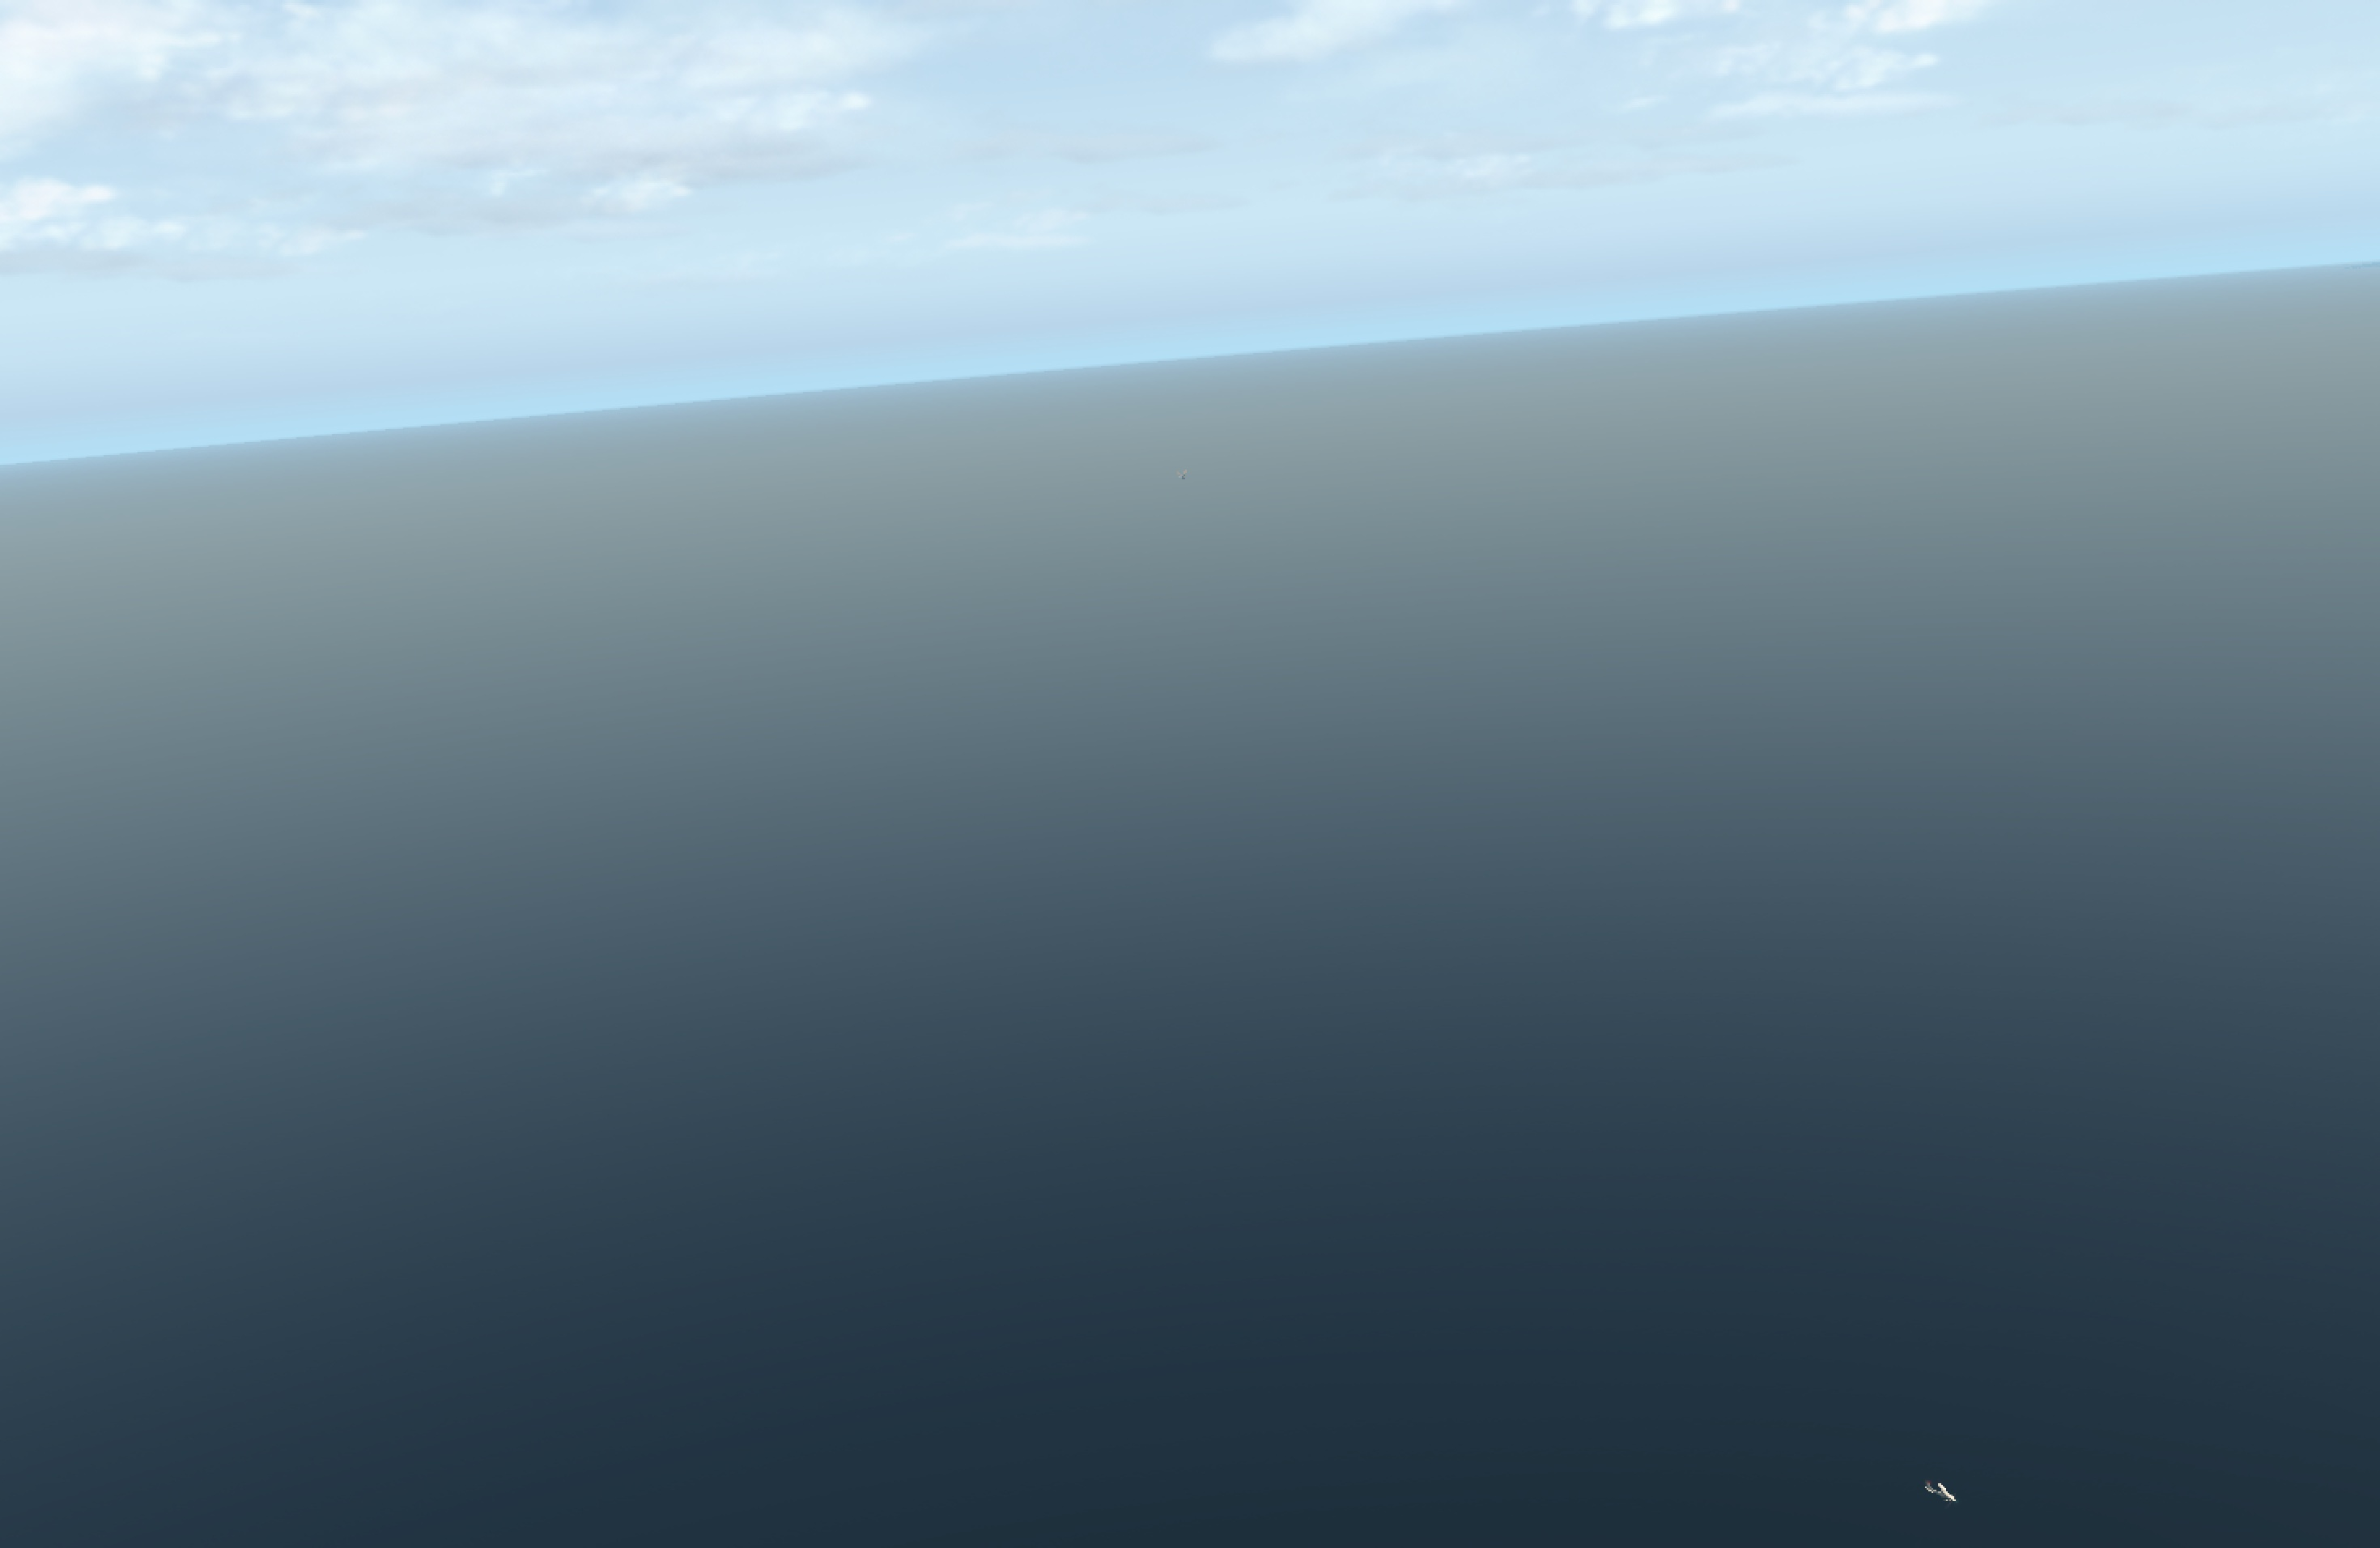aircraft: (1932, 1489, 1960, 1499)
